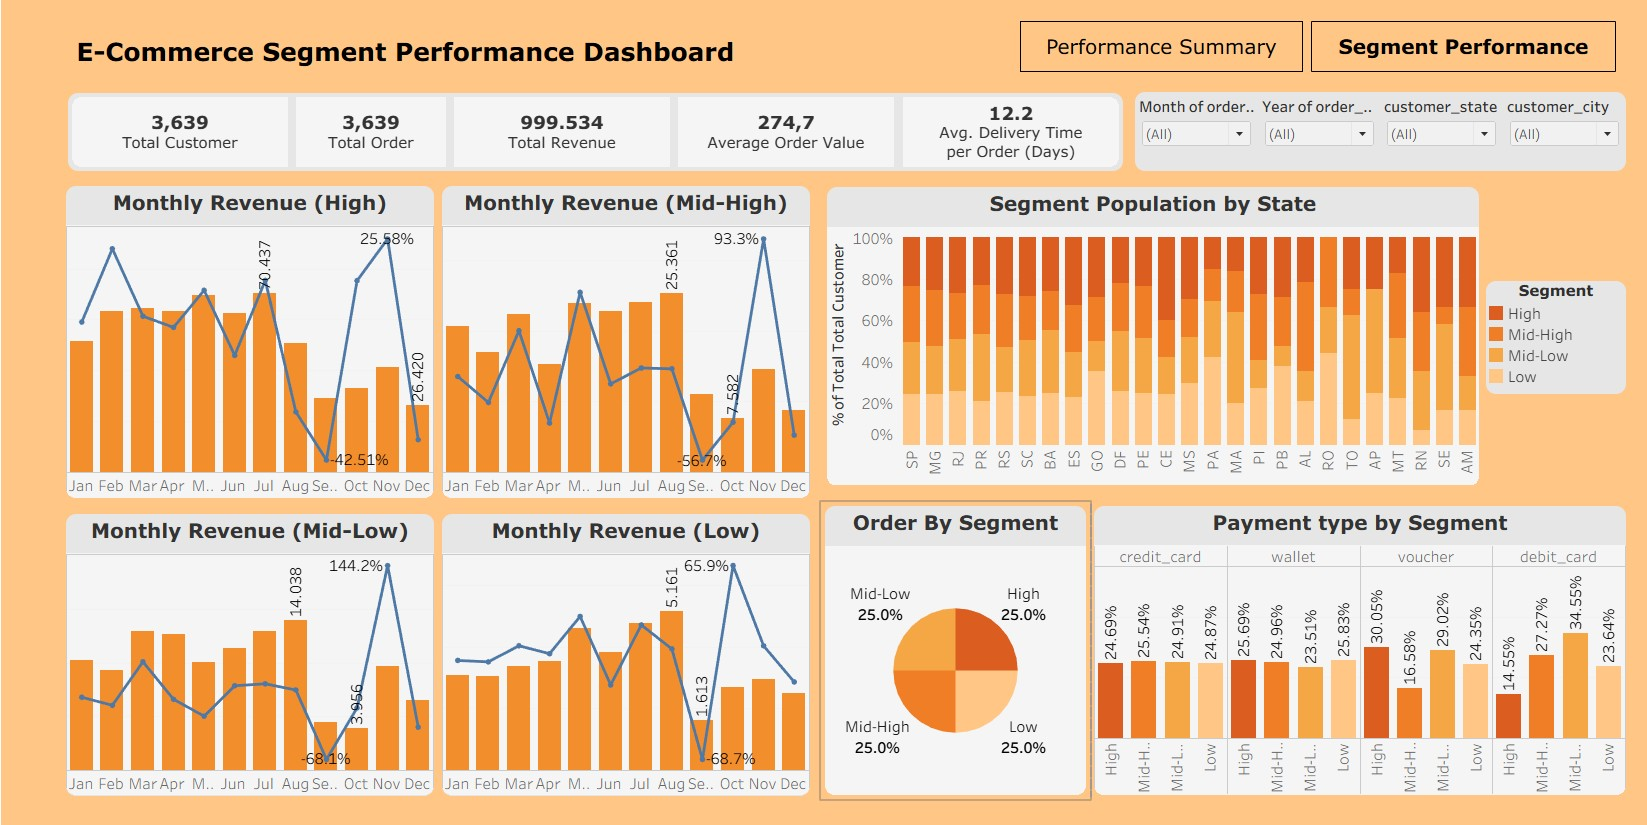

The page's visual inventory and layout, read from the dashboard file:
{"tool":"tableau","page":{"name":"Dashboard 2","canvas":[1000,1000],"units":"permille","ordinal":1},"visuals":[{"type":"blank","box":[0,0,1000,1000]},{"type":"text","box":[45.9,26.1,430.9,81.7]},{"type":"dashboard-object","box":[615,27,175.6,69.3]},{"type":"text","box":[790.6,27,188.9,69.3]},{"type":"filter","title":"AOV","param":"[federated.0h7oraq015u8h316jjo3y05ji4so].[mn:order_purchase_timestamp:ok]","box":[686.8,114.6,74.1,93.1]},{"type":"filter","title":"AOV","param":"[federated.0h7oraq015u8h316jjo3y05ji4so].[yr:order_purchase_timestamp:ok]","box":[760.9,114.6,74.1,93.1]},{"type":"filter","title":"AOV","param":"[federated.0h7oraq015u8h316jjo3y05ji4so].[none:customer_state:nk]","box":[834.9,114.6,74.1,93.1]},{"type":"filter","title":"AOV","param":"[federated.0h7oraq015u8h316jjo3y05ji4so].[none:customer_city:nk]","box":[909,114.6,74.1,93.1]},{"type":"worksheet","title":"Total User","mark":"Automatic","box":[42.9,115.8,135.3,91.9]},{"type":"worksheet","title":"Total Order","mark":"Automatic","box":[178.2,115.8,95.4,91.9]},{"type":"worksheet","title":"Total Revenue","mark":"Automatic","box":[273.5,115.8,135.3,91.9]},{"type":"worksheet","title":"AOV","mark":"Automatic","box":[408.9,115.8,135.3,91.9]},{"type":"worksheet","title":"AVG Delivery Time","mark":"Automatic","box":[544.2,115.8,135.3,91.9]},{"type":"worksheet","title":"Monthly Revenue (High)","mark":"Bar","rows":["Calculation_2072596102209537","Calculation_2072596102209537"],"cols":["order_purchase_timestamp"],"box":[39.2,220.4,226.9,376]},{"type":"worksheet","title":"Monthly Revenue (Mid-High)","mark":"Bar","rows":["Calculation_2072596102209537","Calculation_2072596102209537"],"cols":["order_purchase_timestamp"],"box":[266.1,220.4,226.9,376]},{"type":"worksheet","title":"Segment Population by State","mark":"Automatic","cols":["customer_state"],"box":[500.9,227,393.5,350.7]},{"type":"legend","title":"Segment Population by State","param":"[federated.0h7oraq015u8h316jjo3y05ji4so].[none:value_segment:nk]","box":[898.6,337.2,84.5,132.8]},{"type":"worksheet","title":"Order Contribution by Segment","mark":"Pie","box":[497.3,597.1,162.3,348.5]},{"type":"worksheet","title":"Payment type by Segment","mark":"Automatic","cols":["payment_type","value_segment"],"box":[659.6,597.1,325.9,348.5]},{"type":"worksheet","title":"Monthly Revenue (Mid-Low)","mark":"Bar","rows":["Calculation_2072596102209537","Calculation_2072596102209537"],"cols":["order_purchase_timestamp"],"box":[39.2,605.8,226.9,340.7]},{"type":"worksheet","title":"Monthly Revenue (Low)","mark":"Bar","rows":["Calculation_2072596102209537","Calculation_2072596102209537"],"cols":["order_purchase_timestamp"],"box":[266.1,605.8,226.9,340.7]}]}

Visuals, with their boxes on the dashboard's canvas, which has no fixed pixel size, in thousandths of its width and height (x1, y1, x2, y2). These are canvas units, not pixel positions in the 1647x825 screenshot, which may show the page scaled, cropped or inside an application window:
blank: (left=0, top=0, right=1000, bottom=1000)
text: (left=46, top=26, right=477, bottom=108)
dashboard-object: (left=615, top=27, right=791, bottom=96)
text: (left=791, top=27, right=980, bottom=96)
"AOV" filter: (left=687, top=115, right=761, bottom=208)
"AOV" filter: (left=761, top=115, right=835, bottom=208)
"AOV" filter: (left=835, top=115, right=909, bottom=208)
"AOV" filter: (left=909, top=115, right=983, bottom=208)
"Total User" worksheet: (left=43, top=116, right=178, bottom=208)
"Total Order" worksheet: (left=178, top=116, right=274, bottom=208)
"Total Revenue" worksheet: (left=274, top=116, right=409, bottom=208)
"AOV" worksheet: (left=409, top=116, right=544, bottom=208)
"AVG Delivery Time" worksheet: (left=544, top=116, right=680, bottom=208)
"Monthly Revenue (High)" worksheet (Bar marks): (left=39, top=220, right=266, bottom=596)
"Monthly Revenue (Mid-High)" worksheet (Bar marks): (left=266, top=220, right=493, bottom=596)
"Segment Population by State" worksheet: (left=501, top=227, right=894, bottom=578)
"Segment Population by State" legend: (left=899, top=337, right=983, bottom=470)
"Order Contribution by Segment" worksheet (Pie marks): (left=497, top=597, right=660, bottom=946)
"Payment type by Segment" worksheet: (left=660, top=597, right=986, bottom=946)
"Monthly Revenue (Mid-Low)" worksheet (Bar marks): (left=39, top=606, right=266, bottom=946)
"Monthly Revenue (Low)" worksheet (Bar marks): (left=266, top=606, right=493, bottom=946)
